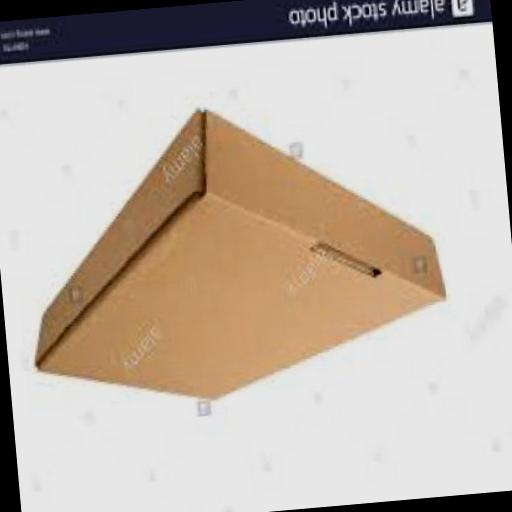cardboard: (16, 98, 454, 420)
